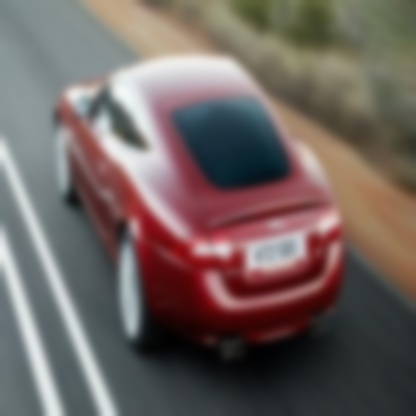Vehicle: (54, 52, 347, 359)
